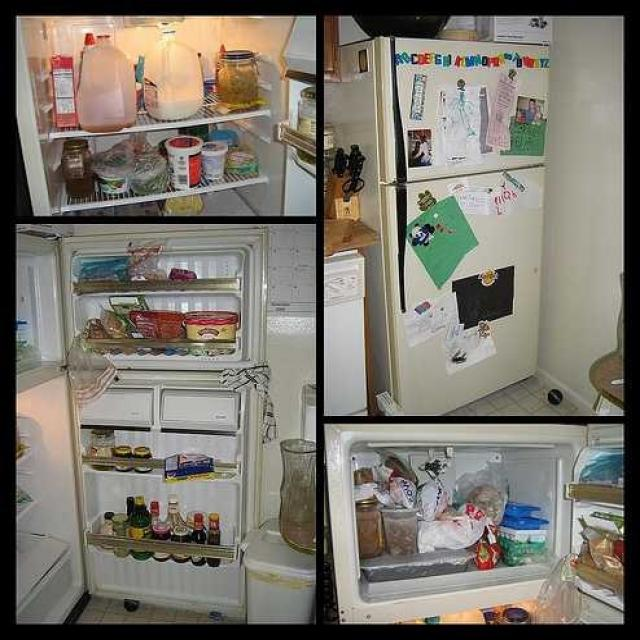refrigerator: (10, 185, 266, 628), (376, 30, 546, 400), (329, 426, 591, 620)
